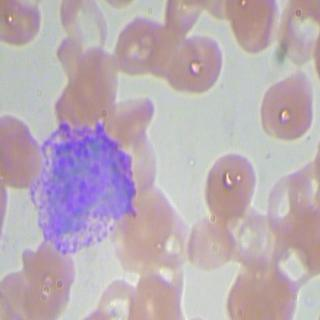RBC: (223, 260, 303, 320), (252, 68, 313, 140), (199, 148, 259, 220), (0, 110, 48, 198), (219, 0, 282, 56), (262, 166, 315, 232), (267, 222, 320, 288), (176, 28, 229, 94), (158, 28, 211, 94), (132, 16, 185, 82), (183, 210, 236, 274), (228, 208, 281, 272), (110, 12, 163, 76), (74, 40, 117, 114), (54, 0, 110, 56), (98, 90, 156, 142), (131, 268, 182, 320), (89, 268, 140, 320), (0, 0, 51, 50)
WBC: (21, 122, 138, 254)
